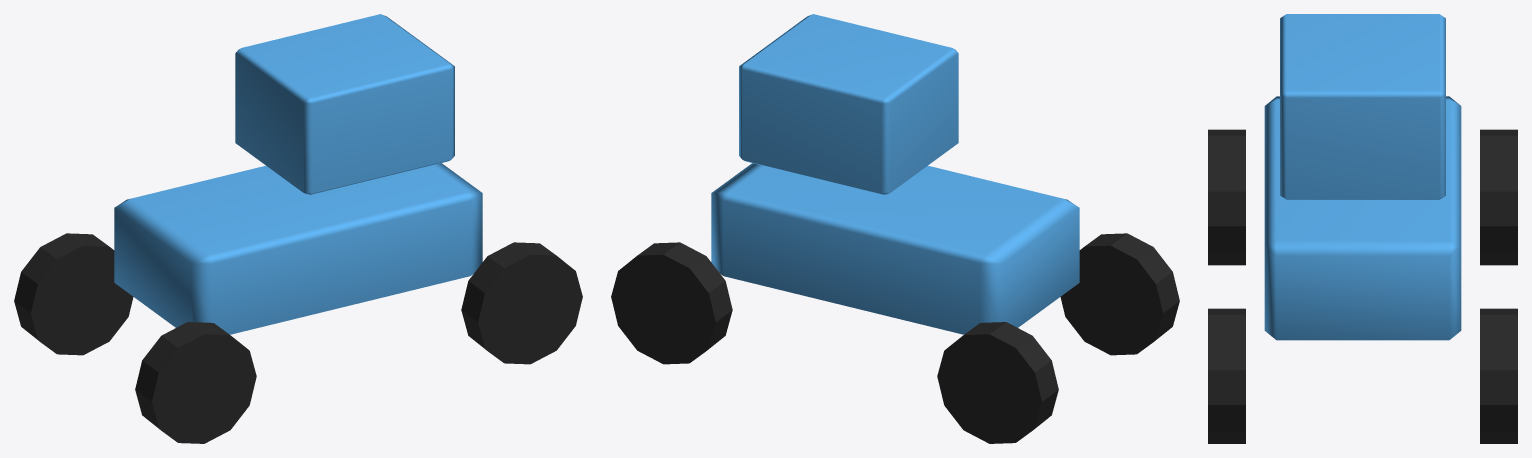
Rendered from toy-car.glb.
The picture shows the model from 3 angles, left to right: view 1: azimuth 30°, elevation 25°; view 2: azimuth 150°, elevation 25°; view 3: azimuth 270°, elevation 25°; orthographic projection. The views are drawn at different scales.
Visible parts, largest first — view 1: body, cab, wheel, wheel.002, wheel.001; view 2: body, cab, wheel.001, wheel.003, wheel; view 3: body, cab, wheel, wheel.001, wheel.002, wheel.003.
Boxes of the visible parts, <box> form: body: <box>114,163,482,334</box>; cab: <box>235,14,454,195</box>; wheel: <box>135,322,256,443</box>; wheel.002: <box>461,242,582,364</box>; wheel.001: <box>14,233,133,355</box>; body: <box>711,163,1079,334</box>; cab: <box>739,14,958,195</box>; wheel.001: <box>937,322,1058,443</box>; wheel.003: <box>611,242,732,364</box>; wheel: <box>1060,233,1179,355</box>; body: <box>1264,96,1461,340</box>; cab: <box>1280,14,1445,199</box>; wheel: <box>1208,129,1245,265</box>; wheel.001: <box>1480,129,1517,265</box>; wheel.002: <box>1208,308,1245,443</box>; wheel.003: <box>1480,308,1517,443</box>.
Size of the model in its own units: 0.74 by 0.47 by 0.41.
